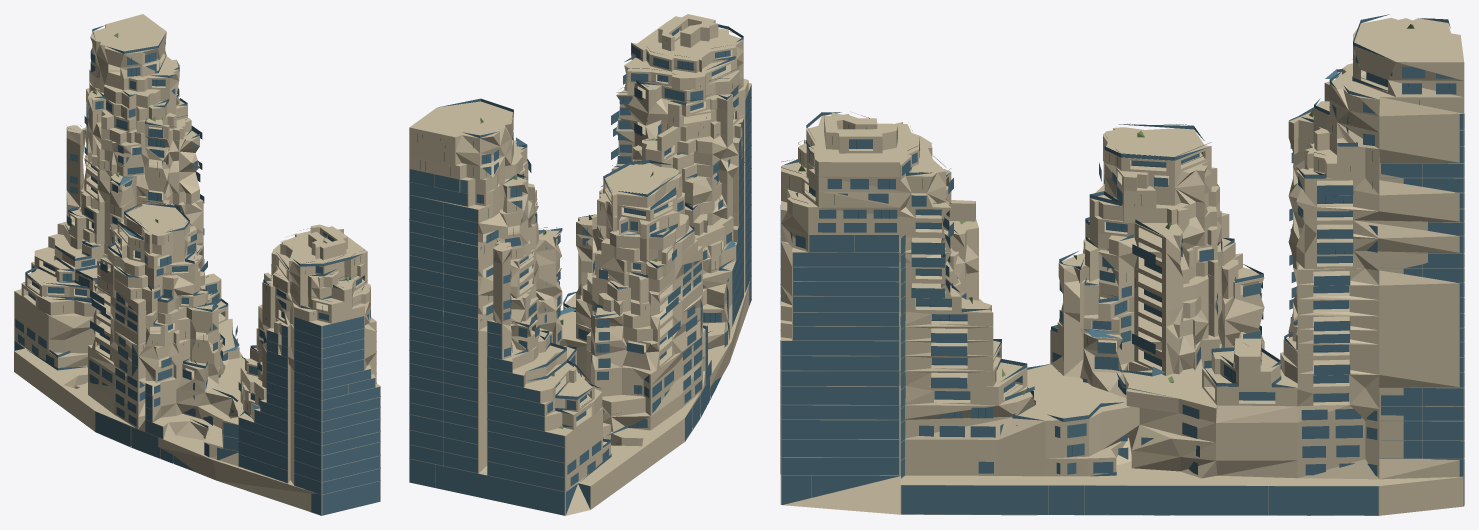
File: valley.lod1.glb
3 views of the same model, side by side, from view 1: azimuth 30°, elevation 25°; view 2: azimuth 150°, elevation 25°; view 3: azimuth 270°, elevation 25° (orthographic). The views are drawn at different scales.
Parts seen in each view (by area): view 1: valley; view 2: valley; view 3: valley.
Part boxes in pixels (bbox=[...]): valley: bbox=[14, 14, 380, 515]; valley: bbox=[409, 14, 751, 515]; valley: bbox=[780, 14, 1464, 515].
Size of the model in its own units: 53.28 by 102 by 140.
